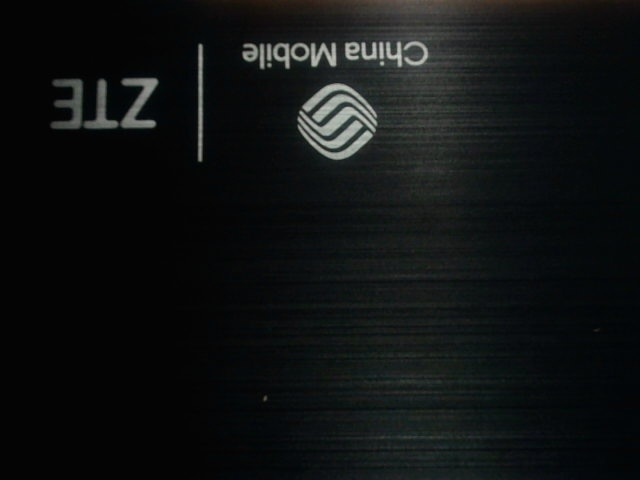AL_ZTEChinaMobile: (33, 23, 445, 175)
